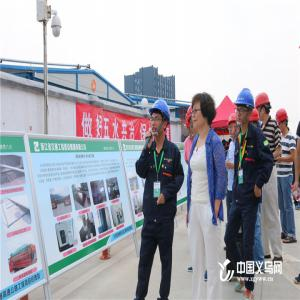blue: (149, 100, 172, 138), (237, 90, 255, 127)
none: (192, 92, 217, 132)
red: (256, 92, 273, 122), (276, 108, 289, 133), (228, 113, 240, 137), (188, 106, 197, 134), (249, 107, 260, 129)
